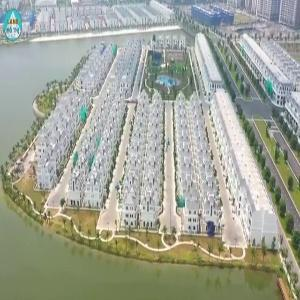drone: (182, 205, 232, 255)
